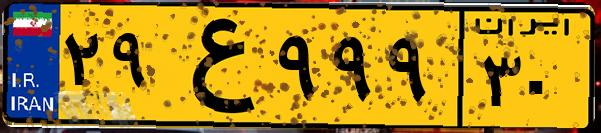0: (525, 38, 570, 115)
2: (57, 26, 110, 100)
3: (475, 38, 525, 113)
9: (270, 28, 330, 110), (385, 28, 445, 110), (330, 28, 385, 110), (110, 28, 158, 98)
ع: (158, 12, 270, 120)
